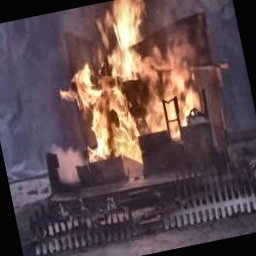fire: (44, 0, 221, 157)
